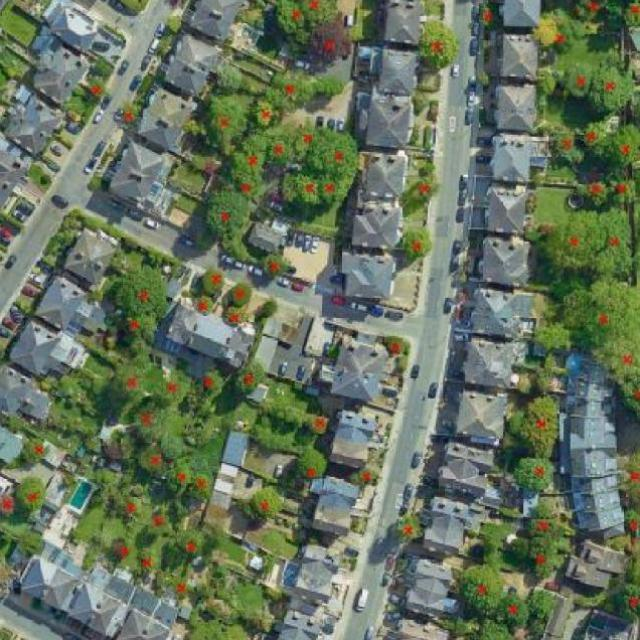tree: (563, 278, 640, 357), (537, 210, 610, 273), (106, 258, 174, 320), (504, 390, 566, 457), (195, 92, 257, 152), (447, 556, 509, 613), (199, 188, 262, 244), (593, 205, 636, 287), (301, 12, 356, 73), (413, 14, 465, 75), (588, 332, 640, 387), (316, 126, 367, 182), (590, 58, 638, 117), (101, 361, 159, 409), (242, 481, 296, 528), (508, 449, 562, 496), (229, 126, 275, 180), (287, 439, 335, 490), (524, 533, 569, 586), (194, 360, 232, 422), (105, 307, 174, 340), (127, 396, 170, 448), (394, 226, 440, 273), (547, 17, 596, 60), (232, 349, 270, 404), (176, 616, 262, 640), (257, 132, 308, 172), (216, 168, 274, 203), (399, 171, 444, 216), (156, 361, 199, 408), (492, 580, 530, 633), (604, 125, 640, 180), (387, 508, 433, 551), (560, 52, 596, 106), (130, 441, 178, 481), (103, 482, 149, 523), (528, 319, 578, 356), (520, 497, 563, 540), (13, 470, 54, 515), (614, 442, 640, 510), (266, 72, 315, 108), (545, 124, 586, 167), (316, 171, 360, 211), (298, 112, 327, 172), (566, 169, 613, 206), (155, 566, 200, 604), (229, 580, 276, 616), (269, 0, 305, 47), (569, 116, 611, 156), (172, 524, 216, 562), (520, 587, 562, 626), (248, 91, 282, 136), (568, 0, 617, 31), (468, 613, 524, 640), (617, 364, 640, 429), (208, 60, 249, 96), (296, 168, 327, 214), (162, 456, 200, 493), (223, 277, 266, 309), (610, 586, 640, 631), (253, 250, 294, 282), (195, 595, 245, 621), (15, 526, 51, 562), (110, 98, 150, 130), (190, 462, 218, 507), (218, 236, 260, 266), (186, 291, 222, 324), (310, 72, 350, 101), (530, 15, 564, 49), (17, 436, 56, 465), (197, 265, 230, 298), (141, 504, 173, 538), (609, 172, 637, 210), (276, 162, 300, 206), (347, 464, 382, 493), (297, 0, 343, 22), (532, 66, 558, 102), (220, 304, 253, 332), (82, 74, 114, 102), (406, 84, 434, 116), (106, 532, 137, 560), (617, 0, 640, 37), (303, 408, 332, 437), (133, 548, 162, 576), (376, 333, 414, 354), (0, 486, 22, 522), (387, 353, 418, 378), (475, 1, 500, 32), (507, 532, 532, 560), (159, 15, 188, 38), (620, 508, 640, 538), (472, 64, 495, 90)
